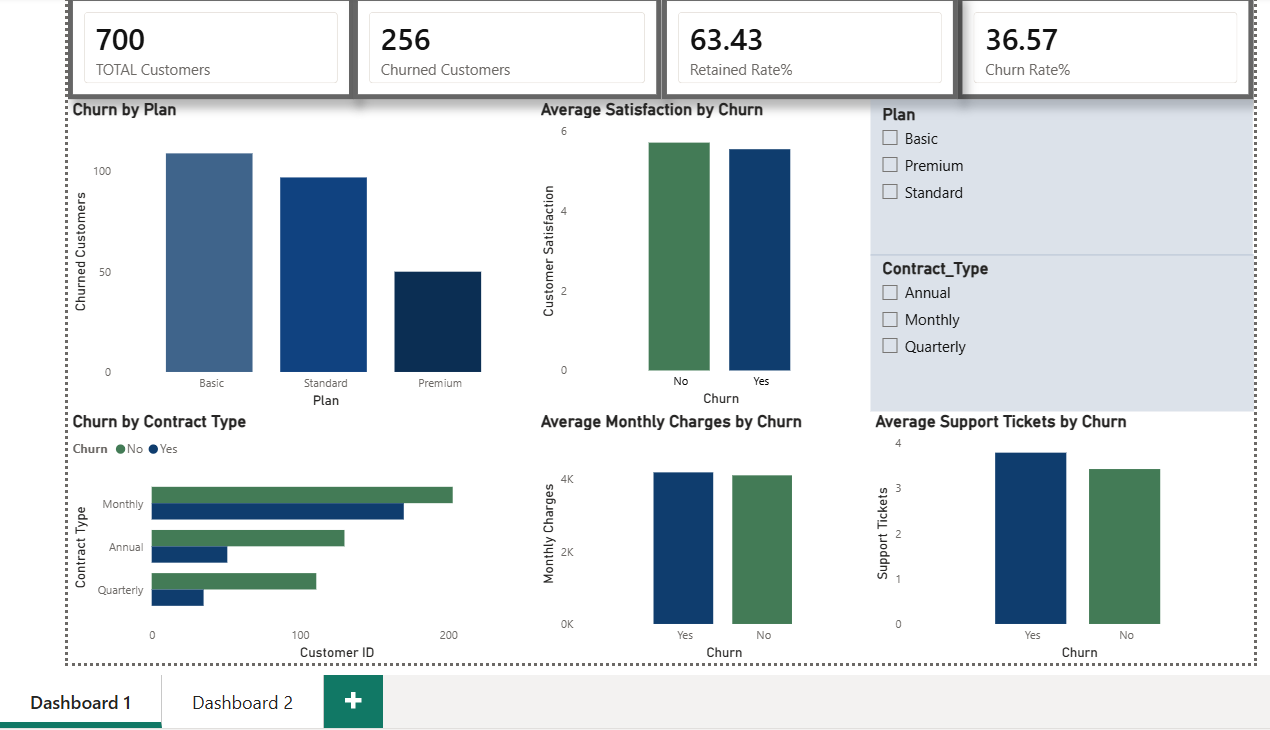

The dashboard page shown, as its layout file describes it:
{"tool":"powerbi","page":{"name":"Dashboard 1","canvas":[1280,720],"ordinal":0},"visuals":[{"type":"cardVisual","fields":{"Data":["Customer_Data.TOTAL Customers"]},"box":[0,0,308,111],"z":0},{"type":"cardVisual","fields":{"Data":["Customer_Data.Churned Customers"]},"box":[308,0,332.6,111.5],"z":1000},{"type":"cardVisual","fields":{"Data":["Customer_Data.Churn Rate%"]},"box":[960,0,319.4,111.5],"z":2000},{"type":"cardVisual","fields":{"Data":["Customer_Data.Retained Rate%"]},"box":[640.6,0,319.4,111.5],"z":3000},{"type":"clusteredBarChart","title":"Churn by Contract Type ","fields":{"Category":["Customer_Data.Contract_Type"],"Series":["Customer_Data.Churn"],"Y":["CountNonNull(Customer_Data.Customer_ID)"]},"box":[0,448.5,505.2,272],"z":5000},{"type":"clusteredColumnChart","title":"Average Satisfaction by Churn","fields":{"Y":["Avg(Customer_Data.Customer_Satisfaction)"],"Category":["Customer_Data.Churn"]},"box":[505.2,111.7,361.1,335.2],"z":6000},{"type":"clusteredColumnChart","title":"Average Monthly Charges by Churn","fields":{"Y":["Avg(Customer_Data.Monthly_Charges)"],"Category":["Customer_Data.Churn"]},"box":[505.2,448.5,361.1,272],"z":7000},{"type":"clusteredColumnChart","title":"Average Support Tickets by Churn","fields":{"Y":["Avg(Customer_Data.Support_Tickets)"],"Category":["Customer_Data.Churn"]},"box":[866.3,448.5,412.9,272],"z":8000},{"type":"slicer","fields":{"Values":["Customer_Data.Plan"]},"box":[866.3,111.7,412.9,168.4],"z":9000},{"type":"slicer","fields":{"Values":["Customer_Data.Contract_Type"]},"box":[866.3,278.5,414.5,170],"z":10000},{"type":"clusteredColumnChart","title":"Churn by Plan","fields":{"Y":["Customer_Data.Churned Customers"],"Category":["Customer_Data.Plan"]},"box":[0,111.7,505.2,336.8],"z":11000}]}

Visuals, with their boxes on the page's 1280x720 design canvas (x1, y1, x2, y2). These are canvas units, not pixel positions in the 1270x730 screenshot, which may show the page scaled, cropped or inside an application window:
cardVisual - Customer_Data.TOTAL Customers: 0 0 308 111
cardVisual - Customer_Data.Churned Customers: 308 0 641 112
cardVisual - Customer_Data.Churn Rate%: 960 0 1279 112
cardVisual - Customer_Data.Retained Rate%: 641 0 960 112
"Churn by Contract Type " clusteredBarChart: 0 448 505 720
"Average Satisfaction by Churn" clusteredColumnChart: 505 112 866 447
"Average Monthly Charges by Churn" clusteredColumnChart: 505 448 866 720
"Average Support Tickets by Churn" clusteredColumnChart: 866 448 1279 720
slicer - Customer_Data.Plan: 866 112 1279 280
slicer - Customer_Data.Contract_Type: 866 278 1281 448
"Churn by Plan" clusteredColumnChart: 0 112 505 448
